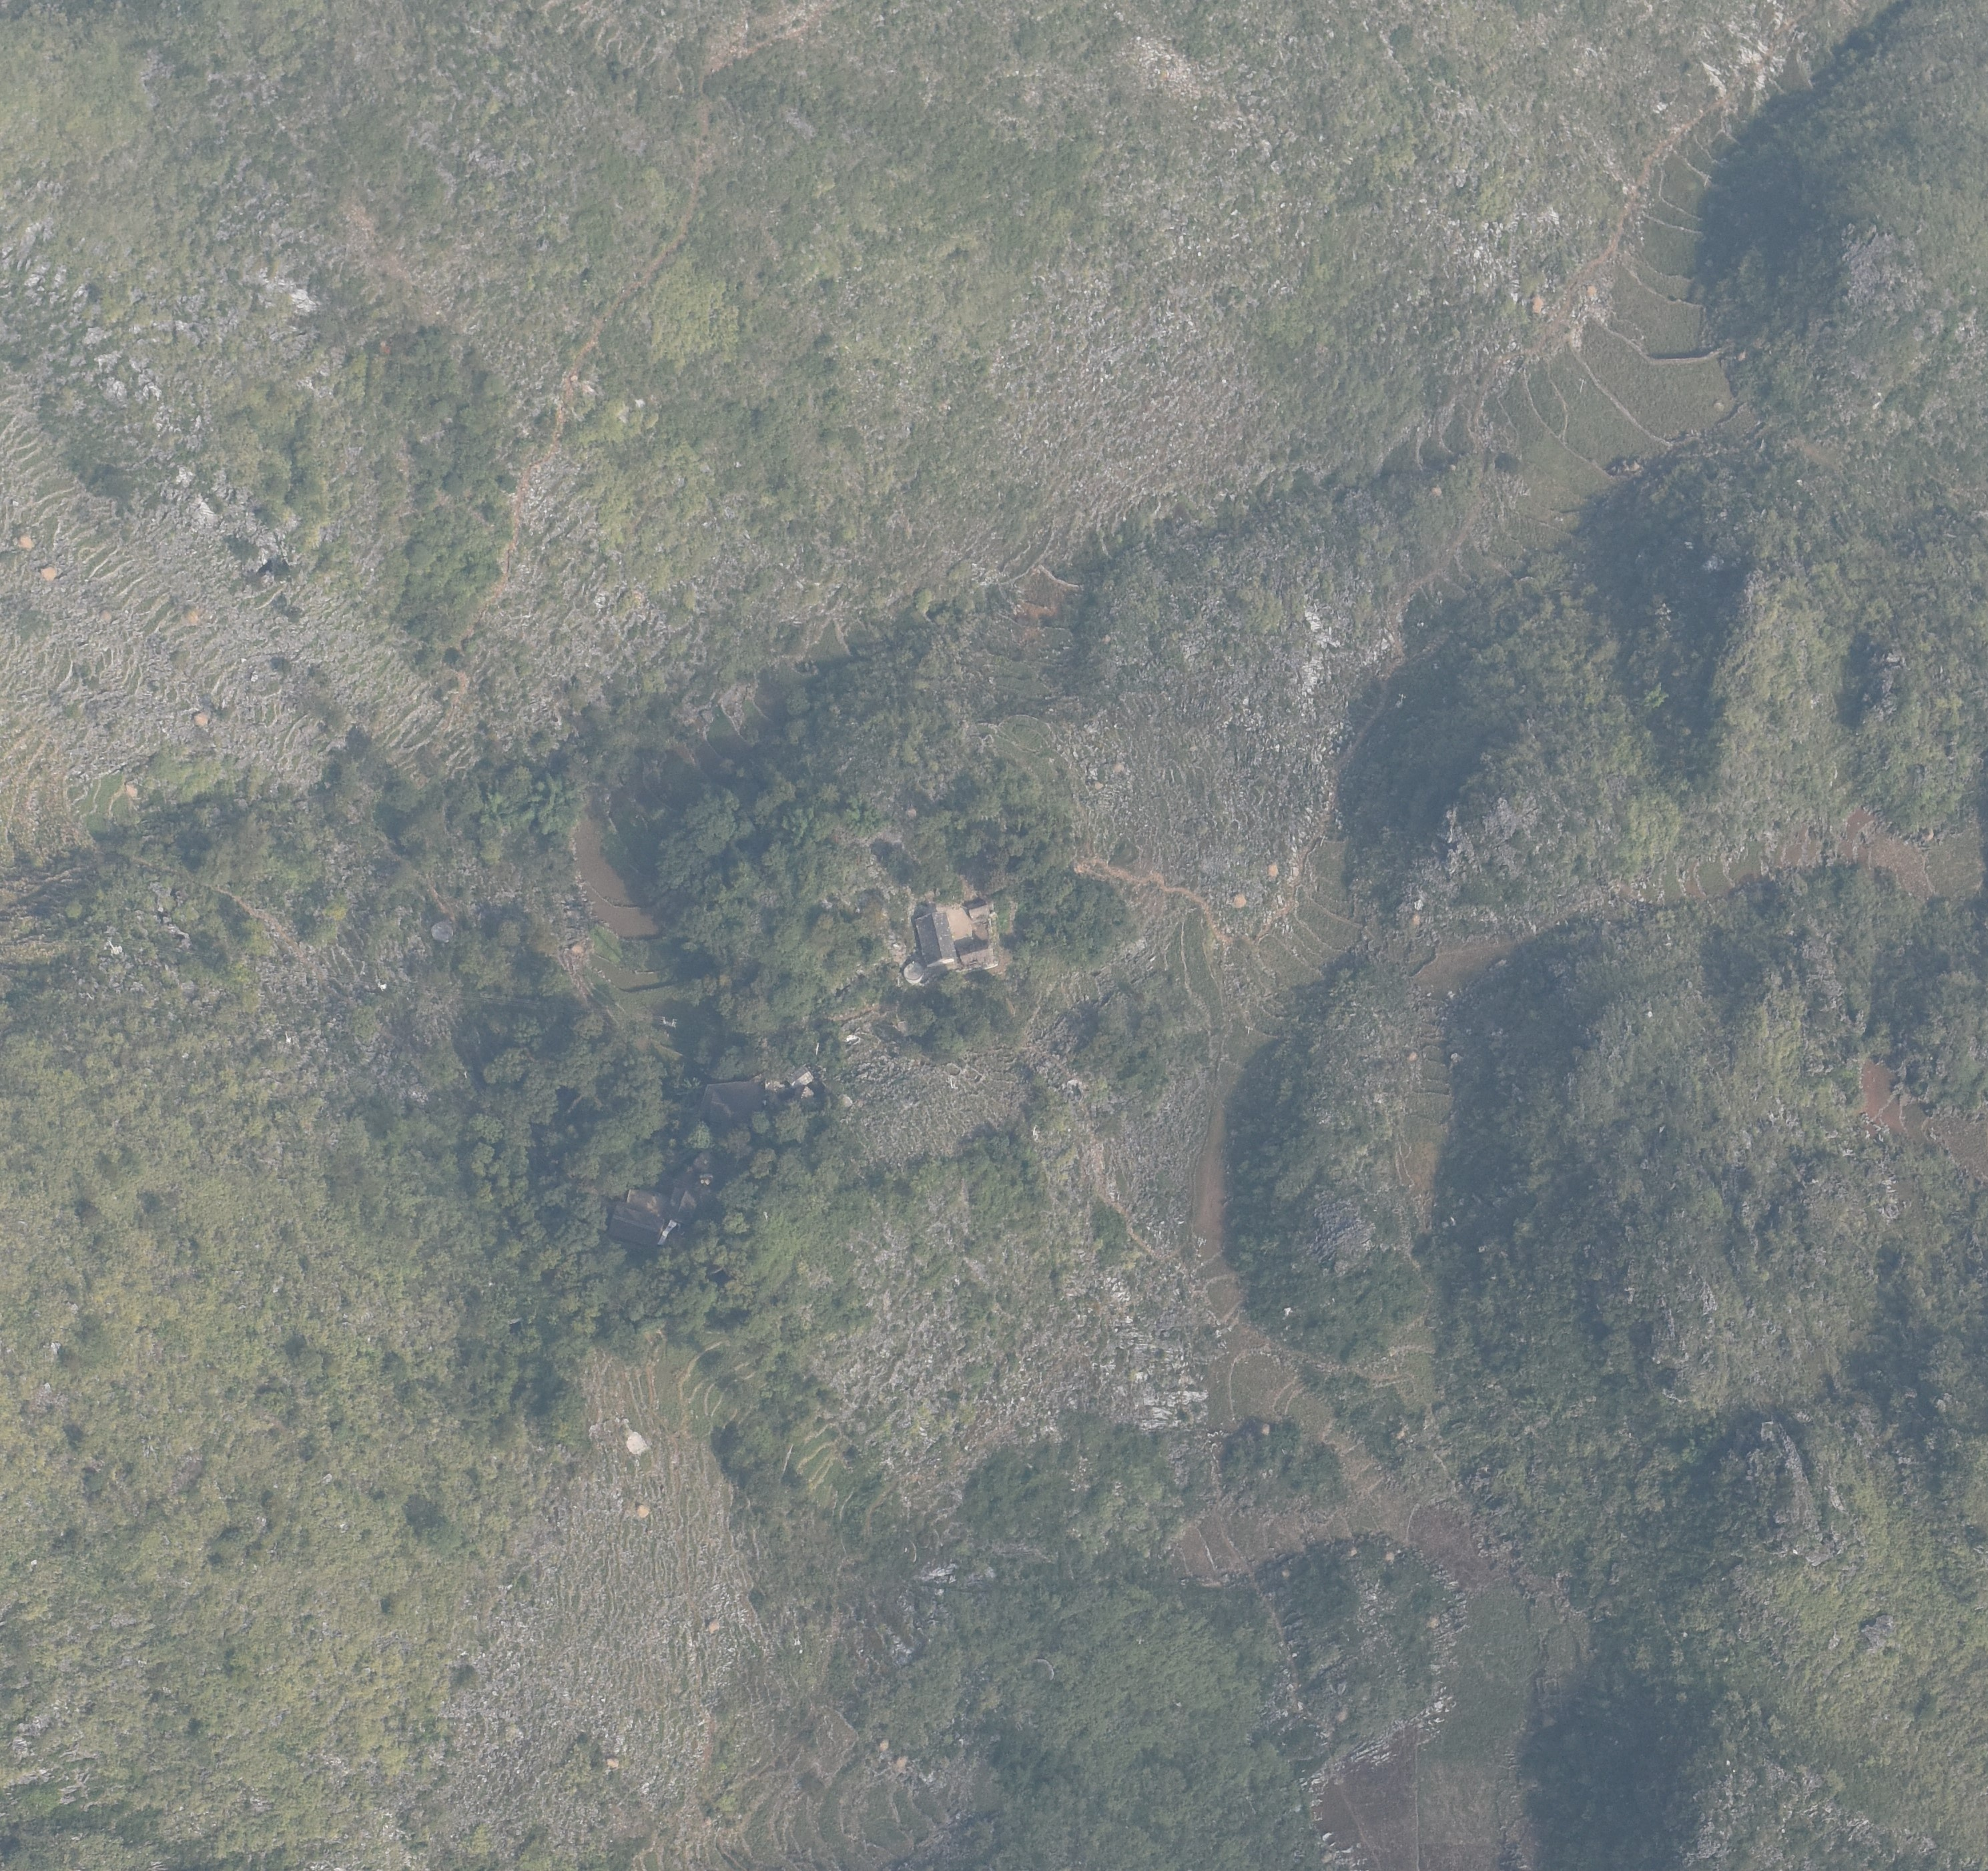building: (702, 1081, 764, 1124), (607, 1205, 663, 1245), (915, 911, 955, 965), (670, 1182, 697, 1229), (626, 1187, 667, 1217), (957, 941, 996, 969), (966, 899, 989, 918)
cable-tower: (660, 1016, 677, 1029), (816, 1043, 820, 1057), (764, 1212, 767, 1220)
well: (904, 960, 924, 983)
